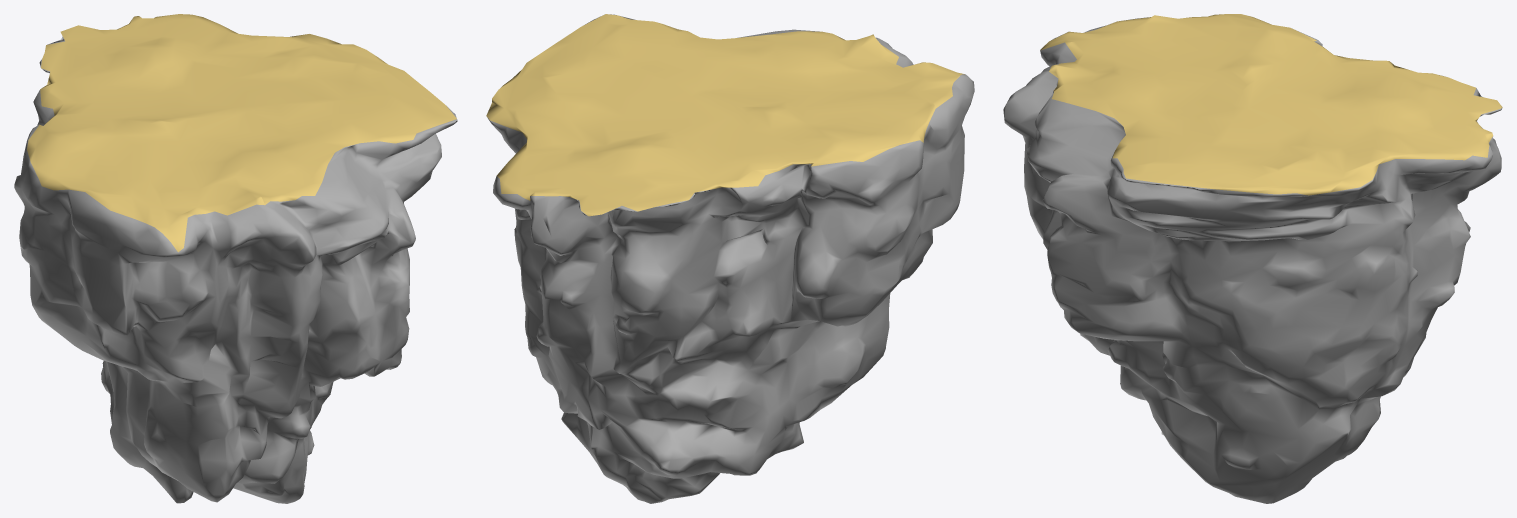
Rendered from fbx_island_02.fbx.
3 renders of one model, left to right at view 1: azimuth 30°, elevation 25°; view 2: azimuth 150°, elevation 25°; view 3: azimuth 270°, elevation 25°, orthographic. The views are drawn at different scales.
Visible parts, largest first — view 1: Group58493; view 2: Group58493; view 3: Group58493.
Boxes of the visible parts, left/top/right/bottom form: Group58493: left=14, top=14, right=457, bottom=503; Group58493: left=486, top=14, right=974, bottom=503; Group58493: left=1003, top=14, right=1502, bottom=503.
Bounding box in the file's own units: 2.9 × 2.94 × 3.48.
